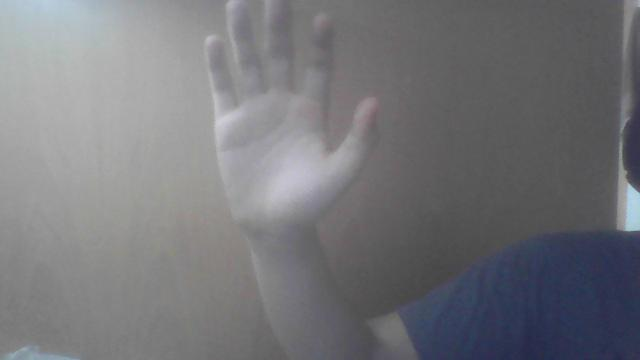Stop: (202, 0, 374, 226)
